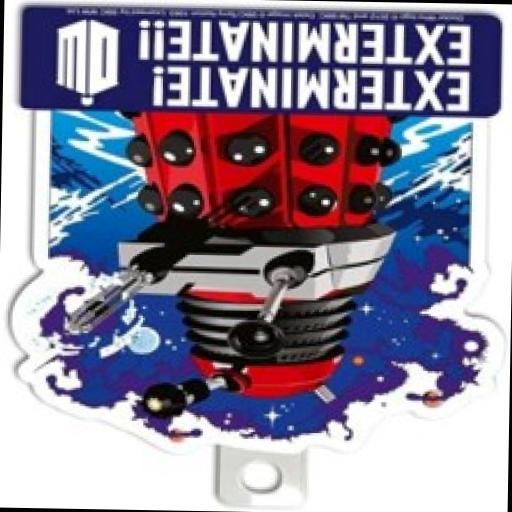dalek: (63, 108, 398, 429)
